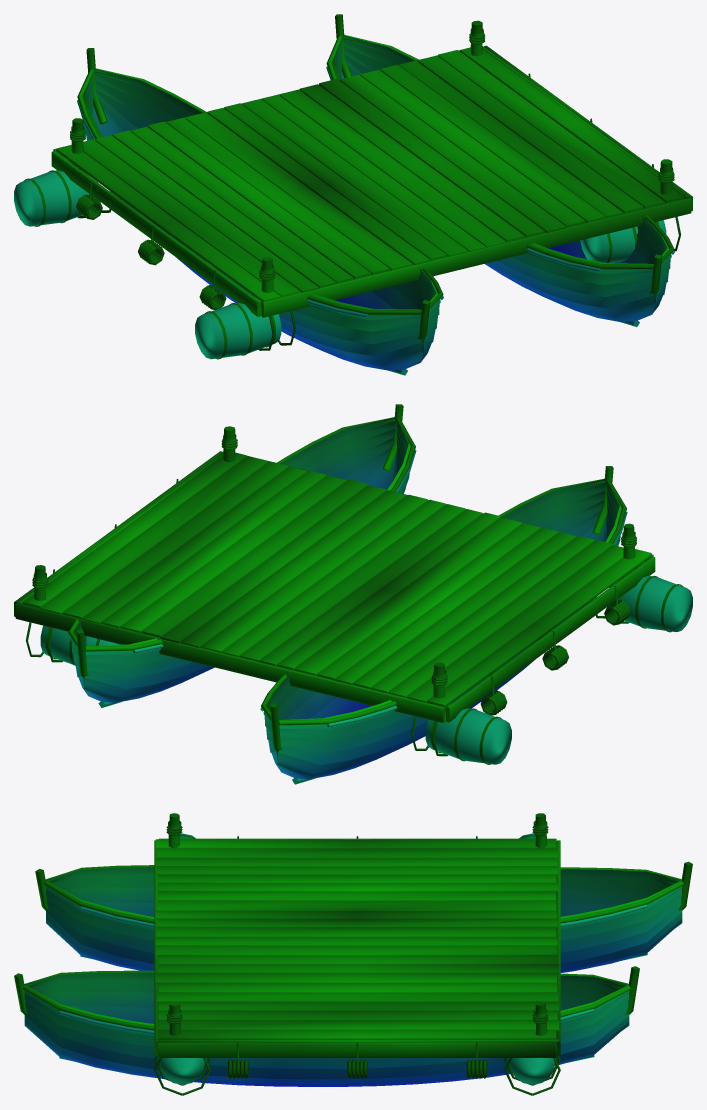
File: raft_deck_small.glb
3 views of the same model, one above another, from view 1: azimuth 30°, elevation 25°; view 2: azimuth 150°, elevation 25°; view 3: azimuth 270°, elevation 25° (orthographic). The views are drawn at different scales.
Visible parts, largest first — view 1: raft_deck_small; view 2: raft_deck_small; view 3: raft_deck_small.
Part boxes in pixels (bbox=[...]): raft_deck_small: bbox=[14, 14, 692, 375]; raft_deck_small: bbox=[14, 404, 692, 784]; raft_deck_small: bbox=[14, 813, 692, 1095].
Size of what is drawn, in the model's own units: 6.83 by 1.71 by 8.54.
